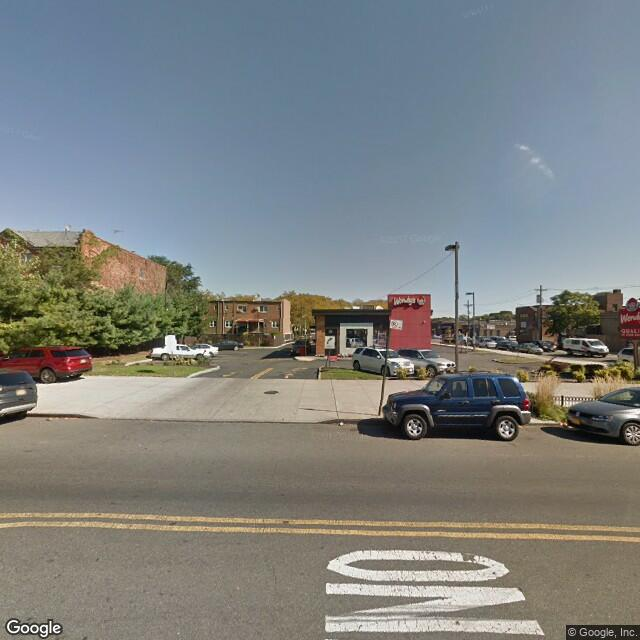litter: (339, 420, 347, 426), (44, 416, 53, 420)
